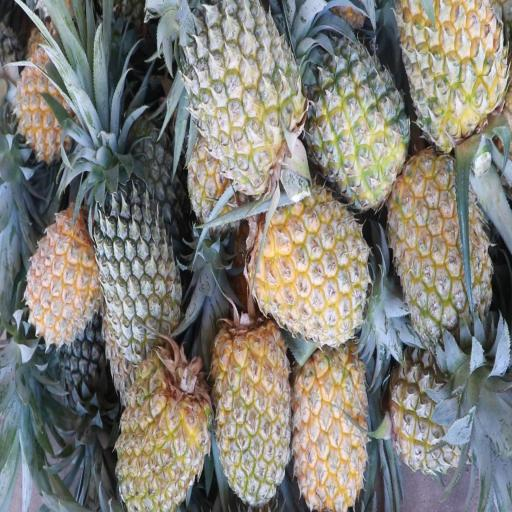------------------------------: (187, 0, 303, 173), (311, 35, 408, 199), (387, 348, 473, 471)
Pineapple - v8 v1: (388, 154, 490, 333), (258, 184, 369, 340), (400, 0, 507, 142), (214, 322, 293, 501), (120, 357, 211, 508), (294, 345, 368, 511), (24, 210, 97, 345), (12, 40, 85, 160)
